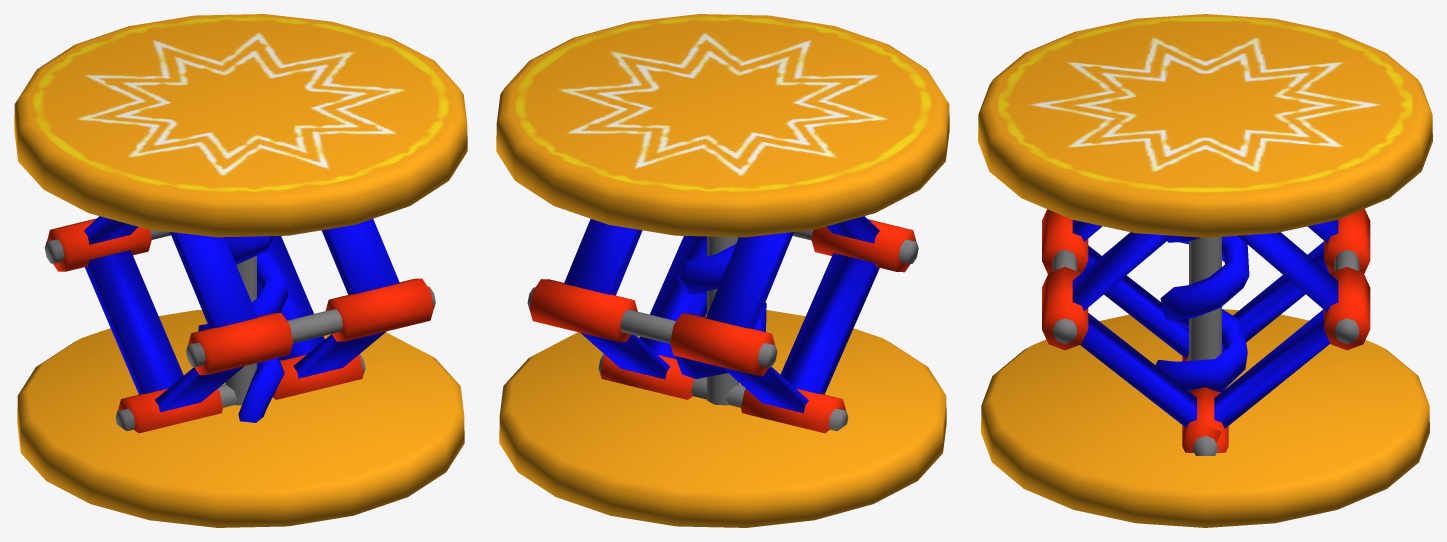
3 renders of one model, left to right at view 1: azimuth 30°, elevation 25°; view 2: azimuth 150°, elevation 25°; view 3: azimuth 270°, elevation 25°, orthographic.
Visible parts, largest first — view 1: JumpStand2_v001, JumpStand65164_v001; view 2: JumpStand2_v001, JumpStand65164_v001; view 3: JumpStand2_v001, JumpStand65164_v001.
Part boxes in pixels (bbox=[...]): JumpStand2_v001: bbox=[14, 14, 467, 527]; JumpStand65164_v001: bbox=[44, 216, 435, 433]; JumpStand2_v001: bbox=[496, 14, 949, 527]; JumpStand65164_v001: bbox=[527, 216, 918, 433]; JumpStand2_v001: bbox=[978, 14, 1432, 527]; JumpStand65164_v001: bbox=[1042, 209, 1370, 455].
Bounding box in the file's own units: 247 × 197 × 247.
